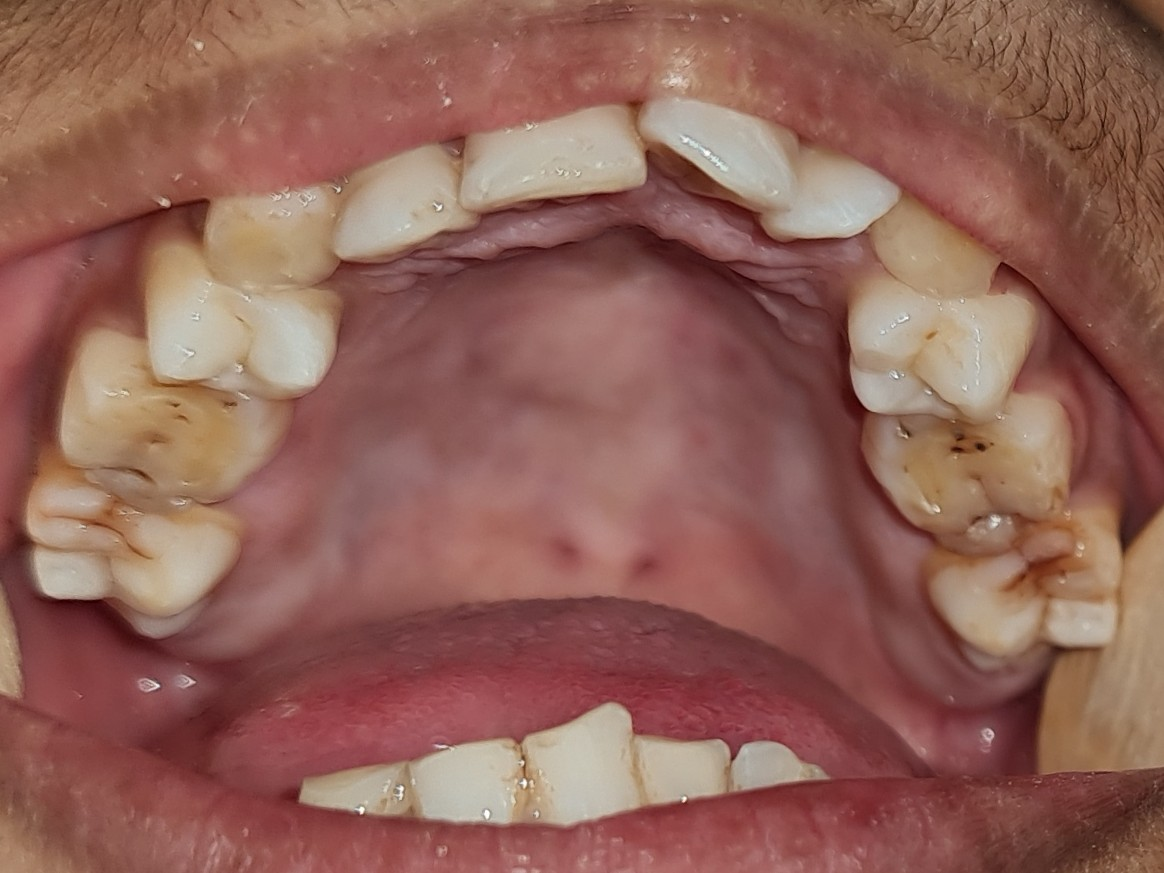d: (51, 330, 291, 504), (858, 395, 1082, 552)
